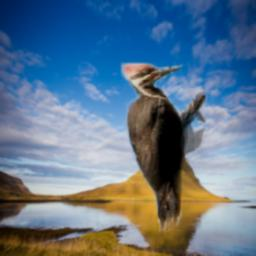Woodpecker: (121, 63, 205, 231)
